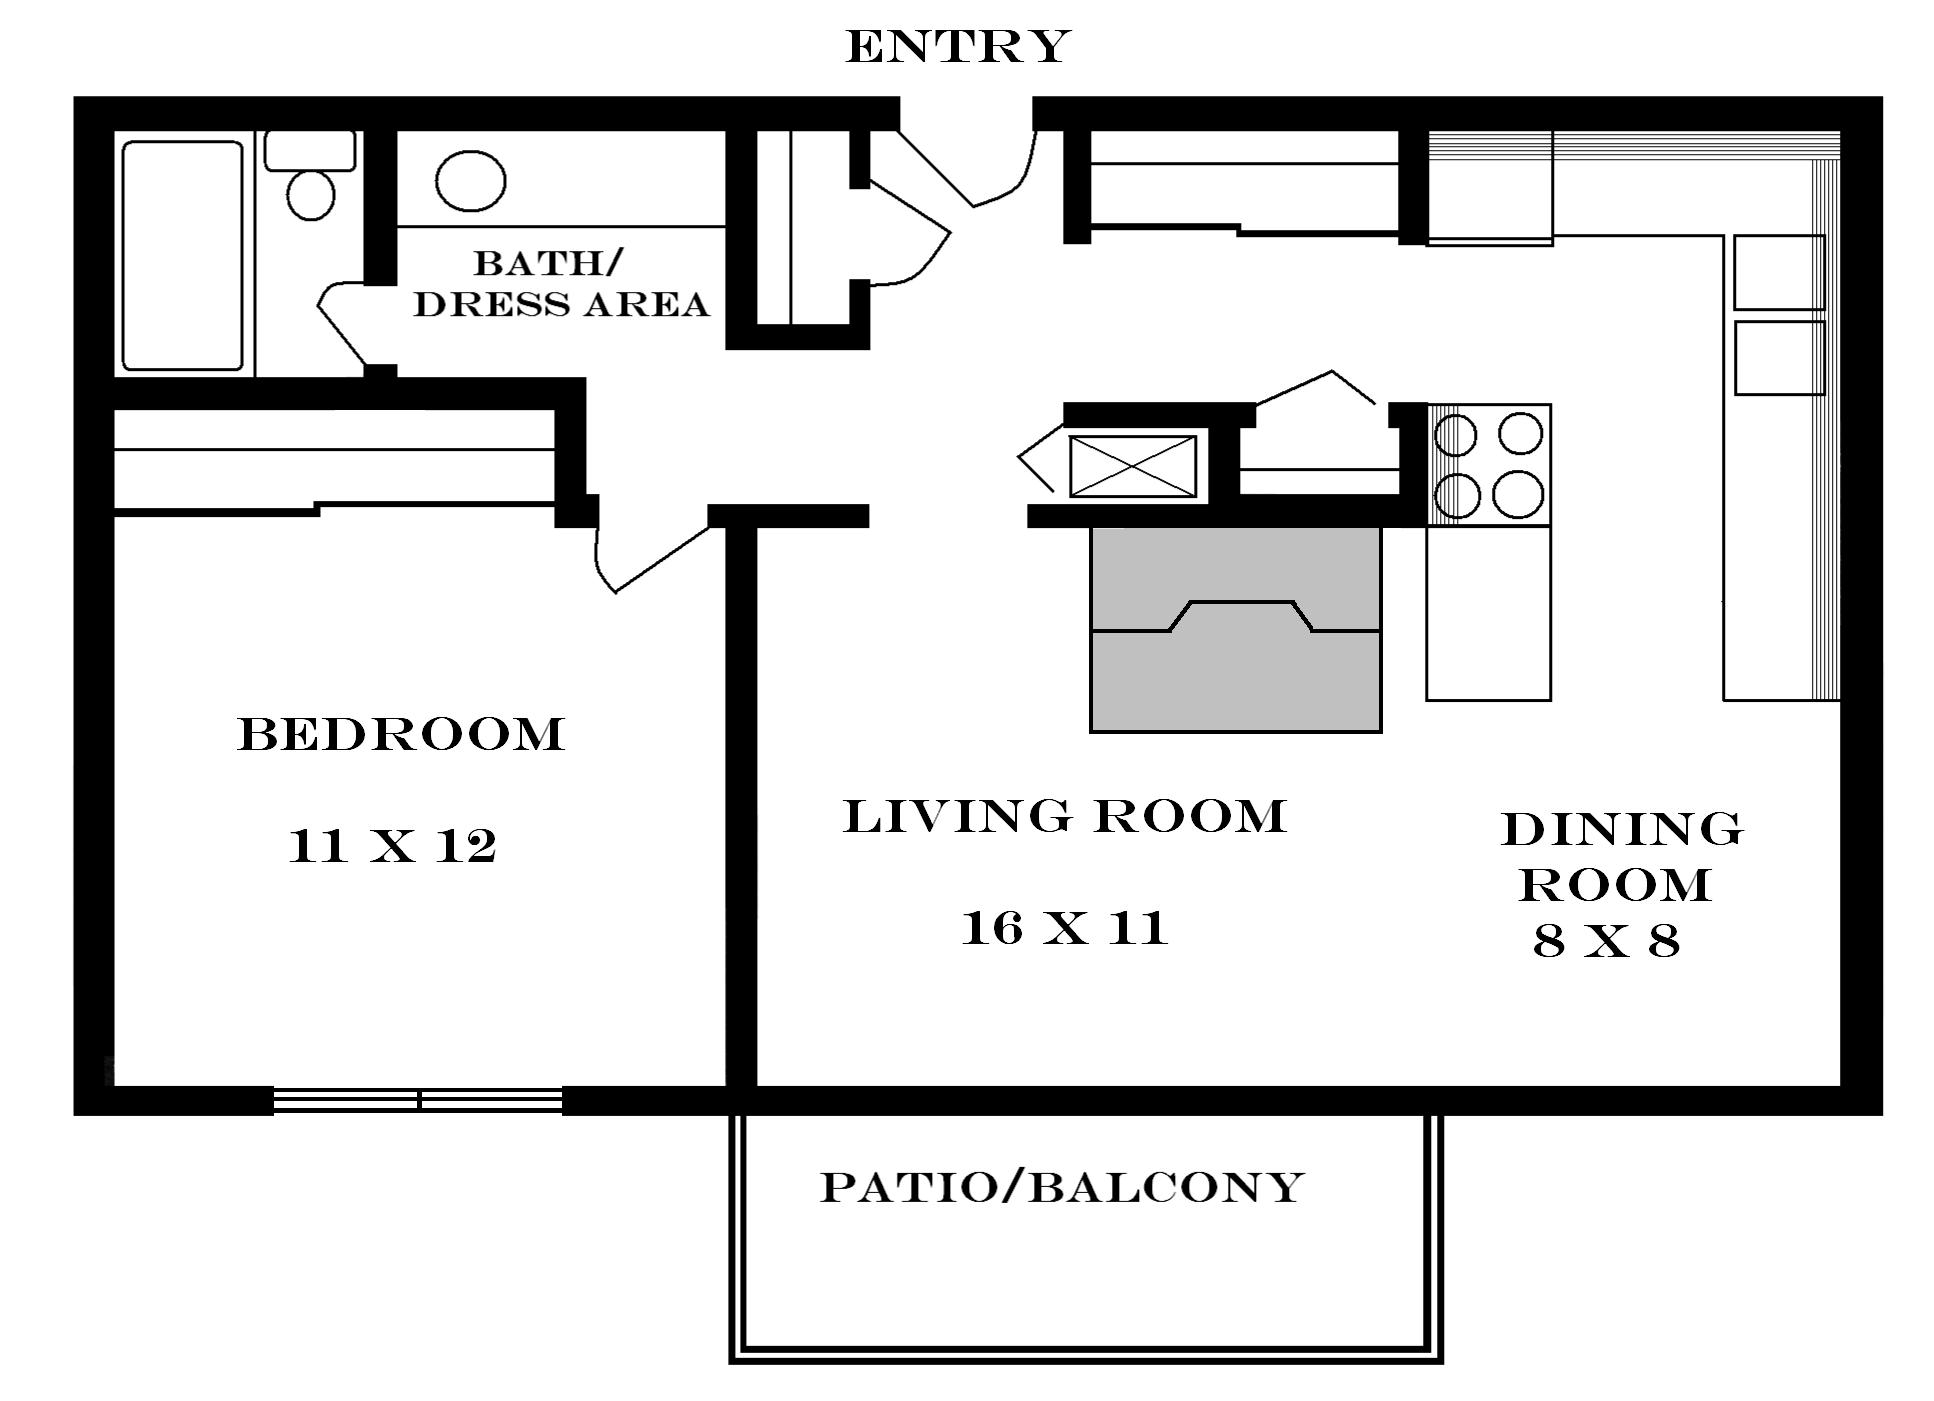window: (264, 1080, 571, 1129)
